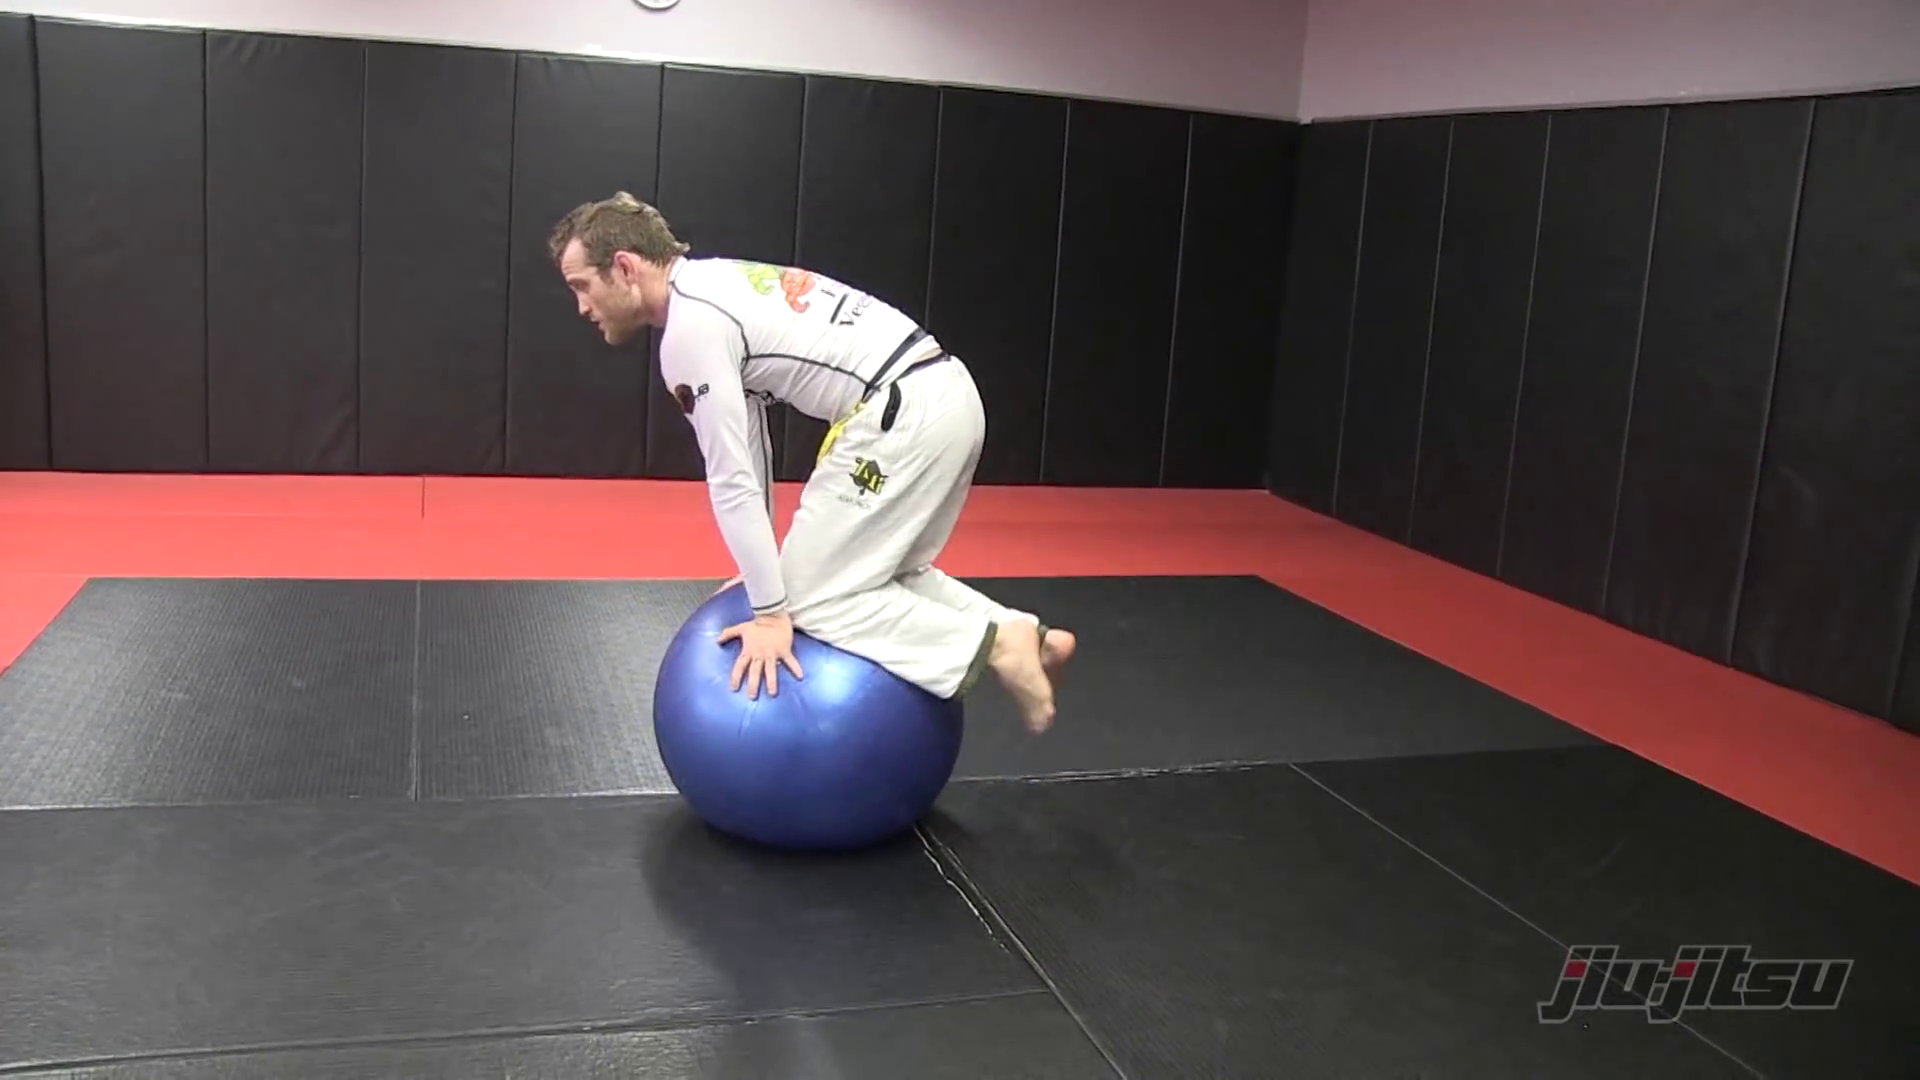yogaball: (646, 582, 976, 887)
